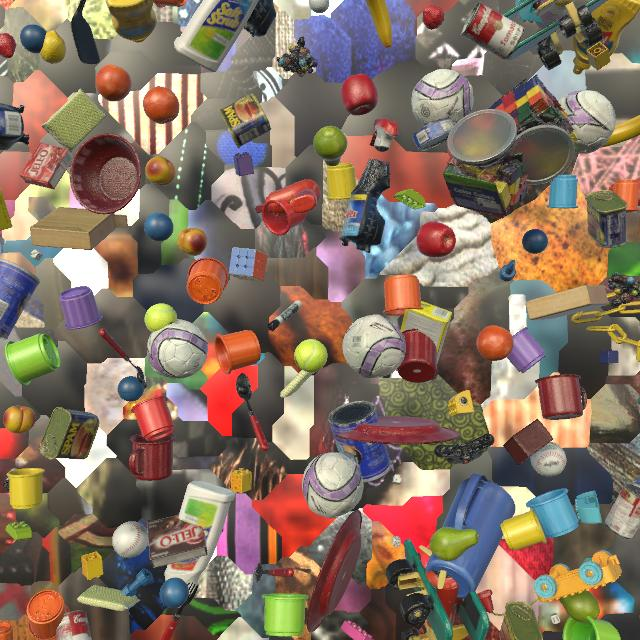ycb_002_master_chef_can: (328, 401, 391, 483), (0, 258, 40, 340)
ycb_004_sugar_box: (395, 301, 452, 384), (0, 189, 13, 231)
ycb_005_tomato_soup_can: (461, 1, 525, 60), (604, 482, 640, 539), (56, 610, 92, 640)
ycb_006_mustard_bottle: (573, 0, 640, 75), (105, 0, 157, 43)
ycb_007_tuna_fish_can: (413, 117, 454, 152)
ycb_008_pudding_box: (147, 515, 207, 568)
ycb_009_gelatin_box: (20, 142, 74, 189)
ycb_010_potted_meat_can: (40, 407, 99, 460), (218, 93, 271, 149), (585, 190, 628, 248), (499, 601, 543, 640), (0, 150, 4, 152)
ycb_011_banana: (365, 0, 392, 48), (602, 115, 640, 147)
ycb_012_strawberry: (423, 5, 444, 30), (0, 33, 16, 58)
ycb_013_apple: (341, 74, 378, 116), (416, 222, 456, 258)
ycb_014_lemon: (40, 30, 66, 64)
ycb_015_peach: (145, 156, 176, 186), (3, 406, 36, 434), (177, 228, 208, 256), (139, 396, 153, 403)
ycb_016_pear: (429, 527, 480, 561), (558, 590, 600, 623), (313, 126, 347, 166)
ycb_017_orange: (95, 65, 132, 102), (476, 325, 514, 361), (143, 86, 179, 124)
